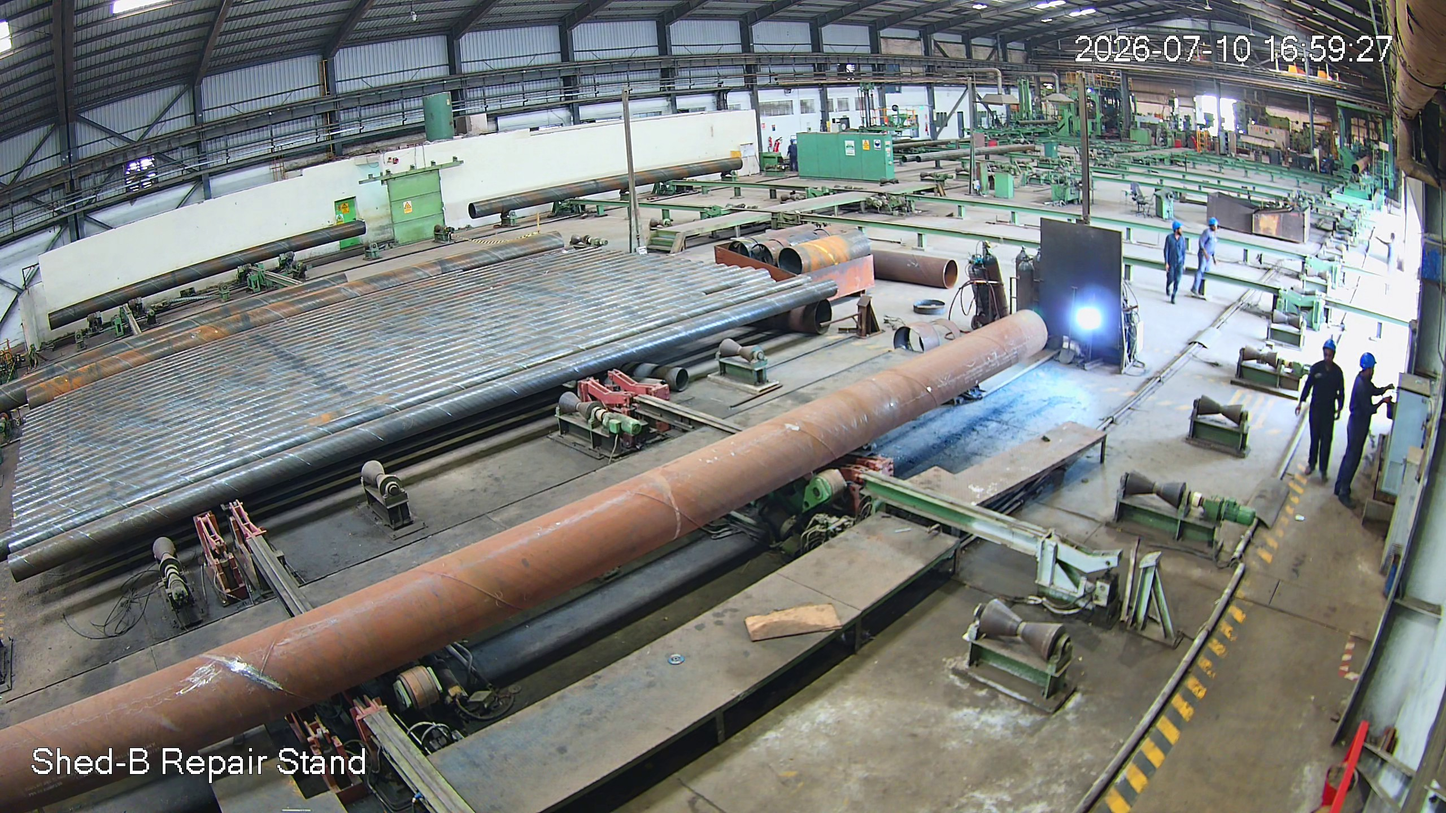Helmet: (1352, 350, 1381, 387), (1320, 339, 1341, 372), (1207, 215, 1221, 237), (1171, 218, 1186, 237)
Person: (1339, 352, 1387, 508), (1298, 341, 1345, 483), (1191, 218, 1219, 305), (1162, 221, 1186, 305)
